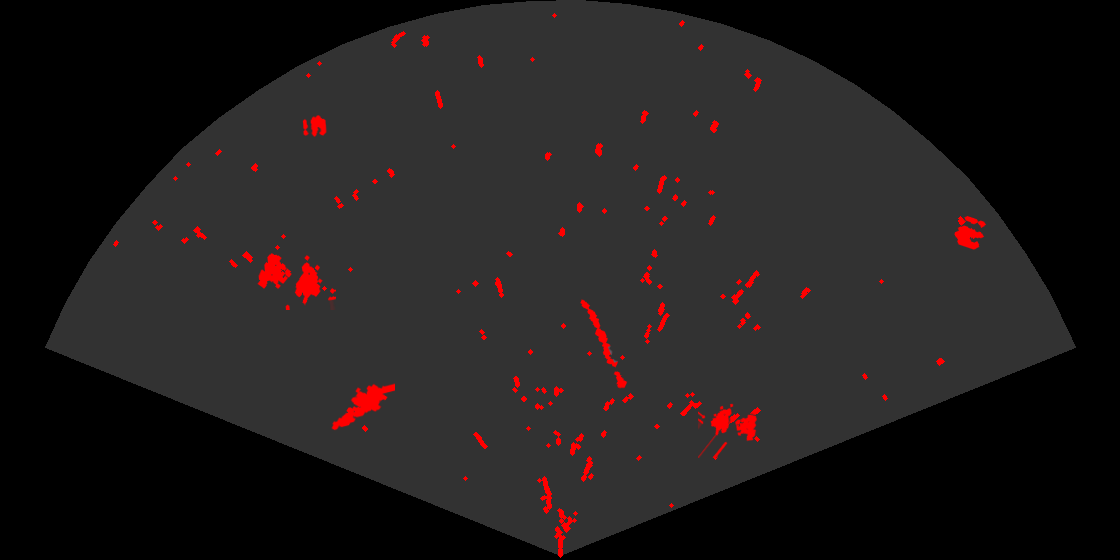ball: (953, 214, 988, 251), (301, 114, 328, 139)
cage: (256, 252, 336, 310), (698, 402, 759, 458)
chain: (579, 298, 629, 391)
frogman: (330, 382, 395, 432)
